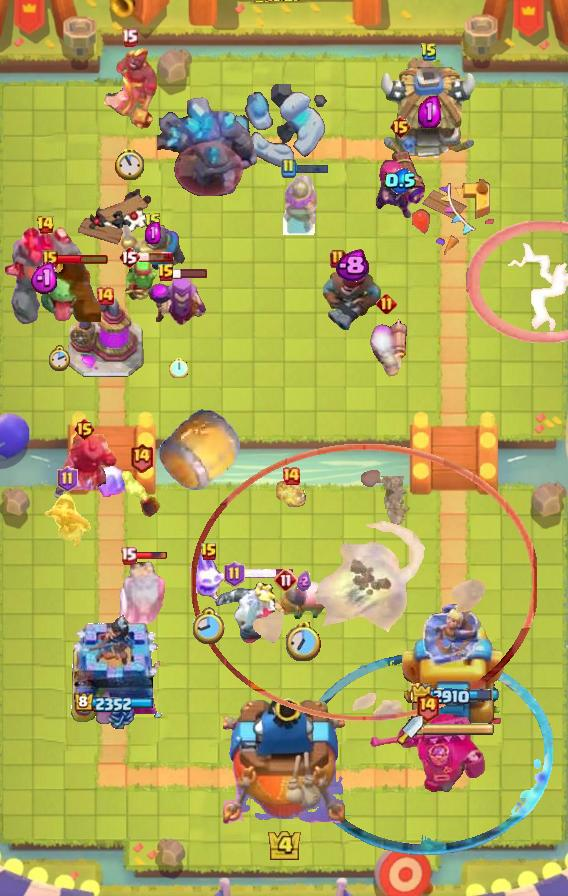bar: (398, 595, 508, 731)
barbarian-evolution: (466, 221, 568, 343)
bomb-tower: (281, 171, 319, 235)
bomber: (119, 471, 163, 517)
cannoneer-tower: (157, 96, 257, 196), (4, 224, 86, 326)
dirt: (157, 406, 243, 494)
electro-spirit: (335, 249, 369, 283), (30, 262, 60, 294), (383, 168, 416, 194), (418, 96, 441, 128), (145, 222, 161, 244), (296, 571, 311, 591)
electro-wizard: (19, 260, 101, 322)
elixir: (286, 623, 321, 662), (193, 607, 226, 646), (115, 148, 144, 180), (49, 345, 71, 372), (168, 357, 187, 378)
emote: (241, 568, 295, 580), (55, 253, 108, 265), (138, 251, 174, 263), (172, 267, 208, 279), (295, 162, 330, 174), (134, 551, 168, 561)
executioner: (273, 577, 333, 623)
firecracker: (120, 225, 186, 271)
fisherman: (378, 476, 414, 528)
freeze: (99, 47, 159, 133)
giant-snowball: (124, 258, 160, 300)
ice-spirit-evolution: (274, 481, 308, 509)
inferno-dragon: (51, 434, 117, 506)
inferno-tower: (367, 713, 487, 797)
king-tower: (223, 698, 345, 826)
king-tower-bar: (423, 723, 495, 737)
mega-minion: (373, 134, 427, 222)
mirror: (189, 552, 229, 602), (85, 465, 135, 503)
mortar-evolution: (215, 577, 279, 649), (115, 559, 169, 625)
pad_0: (301, 652, 553, 856)
pekka: (66, 297, 144, 379)
phoenix-small: (319, 262, 385, 332)
prince: (378, 67, 480, 163)
queen-tower: (65, 614, 162, 730)
rascal-girl: (147, 275, 209, 329)
royal-ghost: (191, 444, 537, 721)
selected: (411, 684, 495, 709), (74, 693, 154, 714)
skeleton-dragon: (41, 491, 93, 549)
text: (415, 690, 440, 721), (130, 443, 154, 474), (274, 568, 298, 592), (388, 115, 411, 139), (72, 417, 95, 441), (57, 466, 78, 492), (224, 561, 245, 587), (118, 245, 140, 269), (375, 294, 396, 315), (36, 215, 56, 235), (95, 286, 115, 306), (281, 466, 301, 486), (420, 42, 438, 62), (144, 212, 162, 232), (157, 263, 175, 283), (200, 542, 218, 562), (119, 547, 137, 566), (121, 29, 138, 48), (280, 158, 296, 178), (330, 249, 346, 269), (42, 250, 58, 268)
tombstone: (364, 317, 408, 379)
